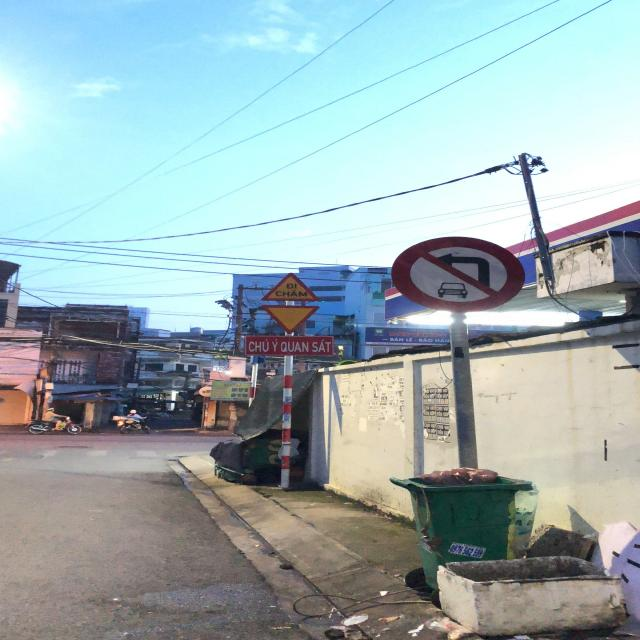Bien bao cam xe o to re trai: (394, 237, 536, 315)
Bien bao di cham: (261, 266, 326, 305)
Bien bao giao nhau voi duong uu tien: (259, 303, 323, 332)
